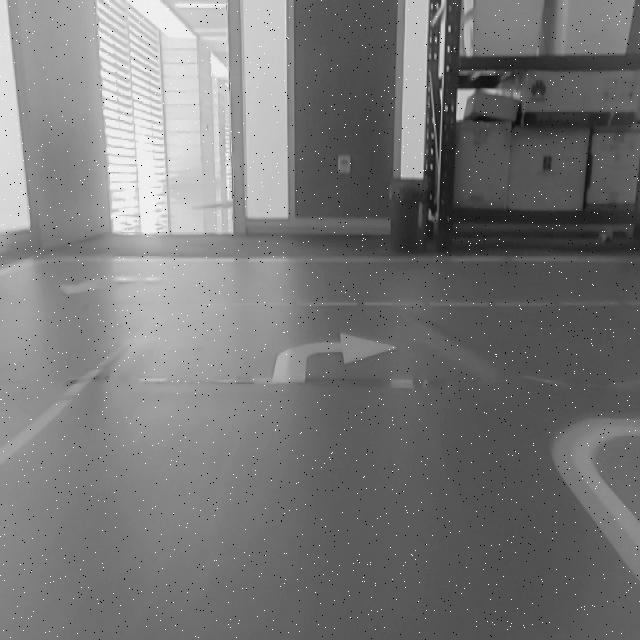left_lane: (0, 318, 151, 470)
right_lane: (555, 442, 640, 583)
